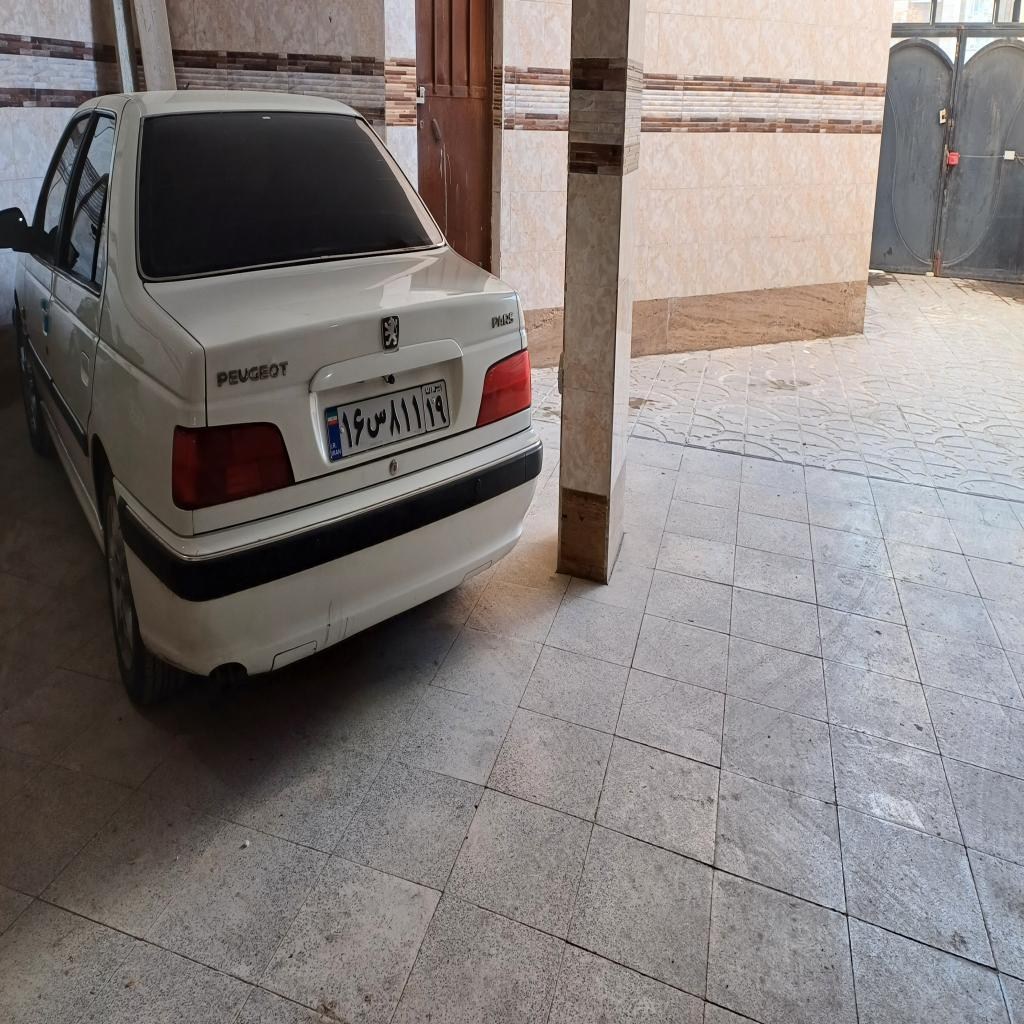Plates: (322, 359, 451, 469)
